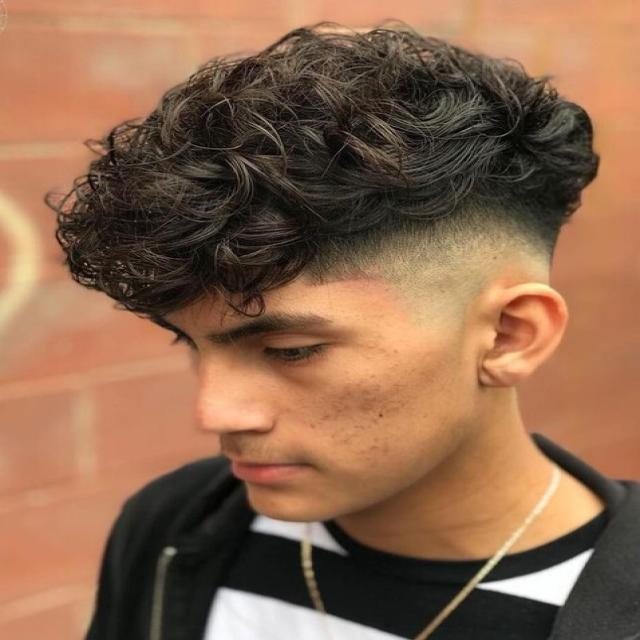Nonhelmet: (43, 20, 601, 533)
